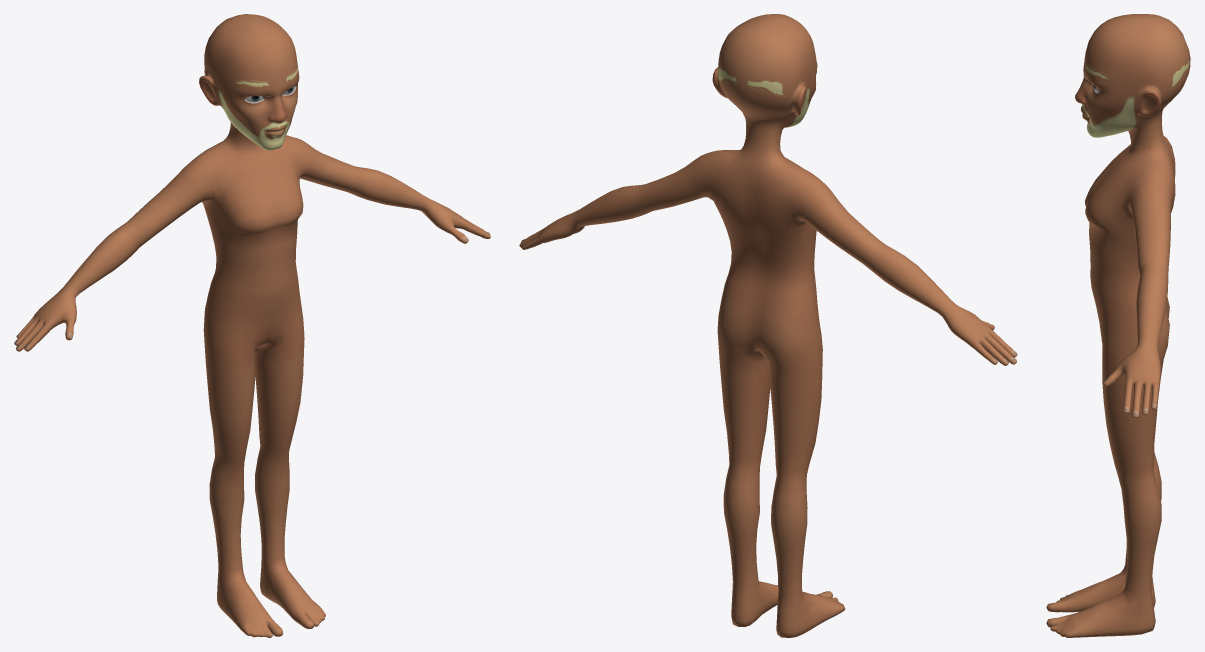
File: frame_0007.glb
3 views of the same model, side by side, from view 1: azimuth 30°, elevation 25°; view 2: azimuth 150°, elevation 25°; view 3: azimuth 270°, elevation 25° (orthographic). The views are drawn at different scales.
Parts seen in each view (by area): view 1: frame_0007_head_geo; view 2: frame_0007_head_geo; view 3: frame_0007_head_geo.
Boxes of the visible parts, bbox=[...] form: frame_0007_head_geo: bbox=[14, 14, 490, 637]; frame_0007_head_geo: bbox=[519, 14, 1017, 637]; frame_0007_head_geo: bbox=[1046, 14, 1190, 637].
Size of the model in its own units: 1.28 by 1.5 by 0.3253.
Materials: 4 (2 with a texture image).
